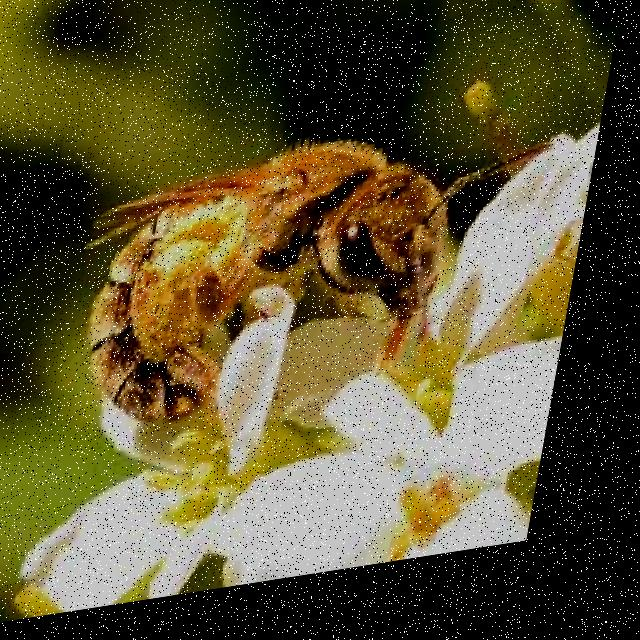Seladonia: (35, 100, 516, 456)
